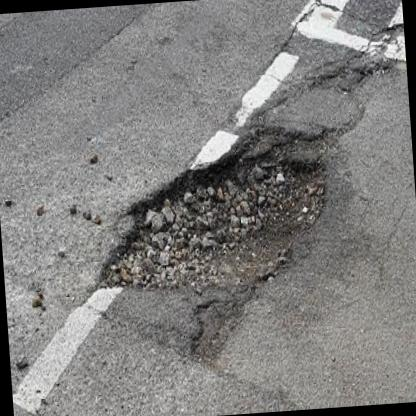pothole: (86, 127, 336, 304), (184, 295, 240, 369), (310, 52, 394, 96)
